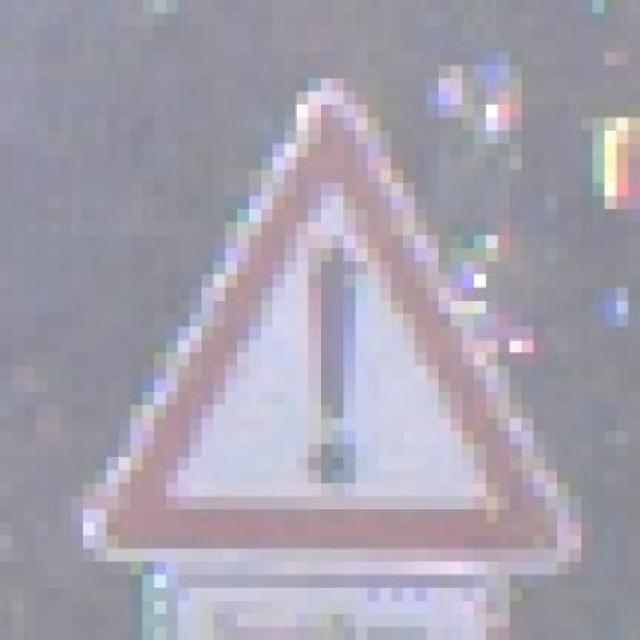Attention Please-: (59, 78, 593, 574)
